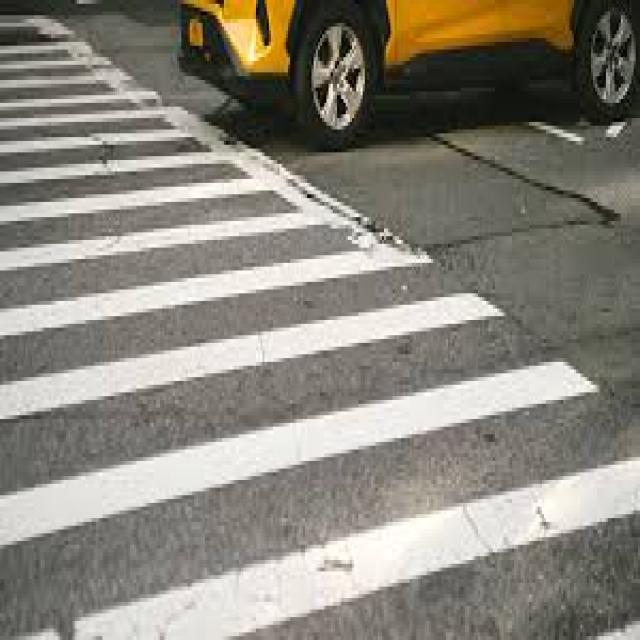Crosswalk: (0, 16, 640, 640)
